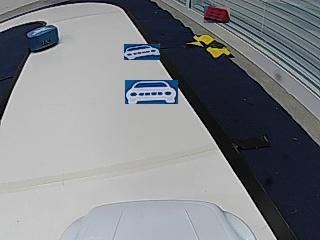prop: (27, 25, 58, 53)
